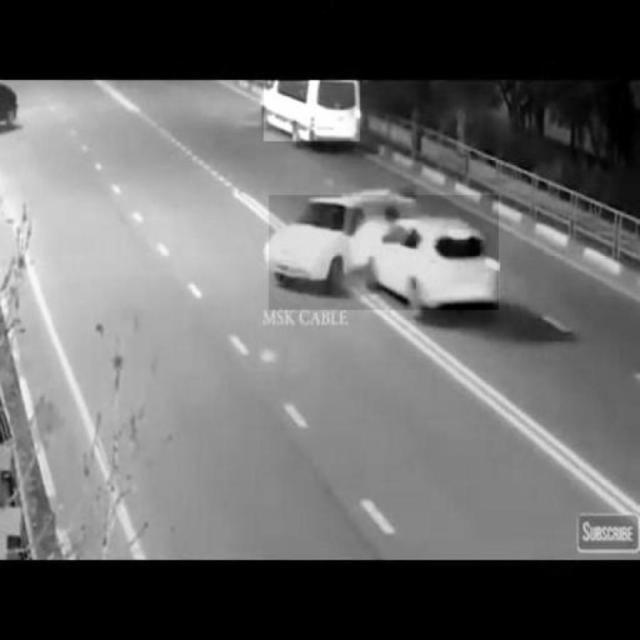vehicle: (269, 196, 499, 310), (264, 81, 360, 141)
